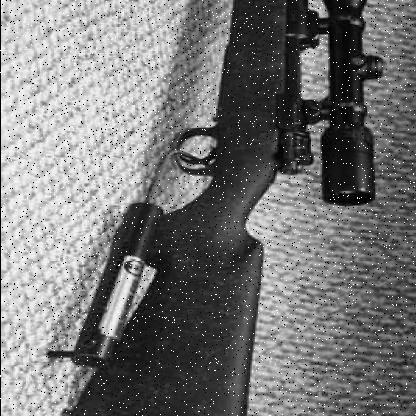rifle: (82, 0, 393, 372)
